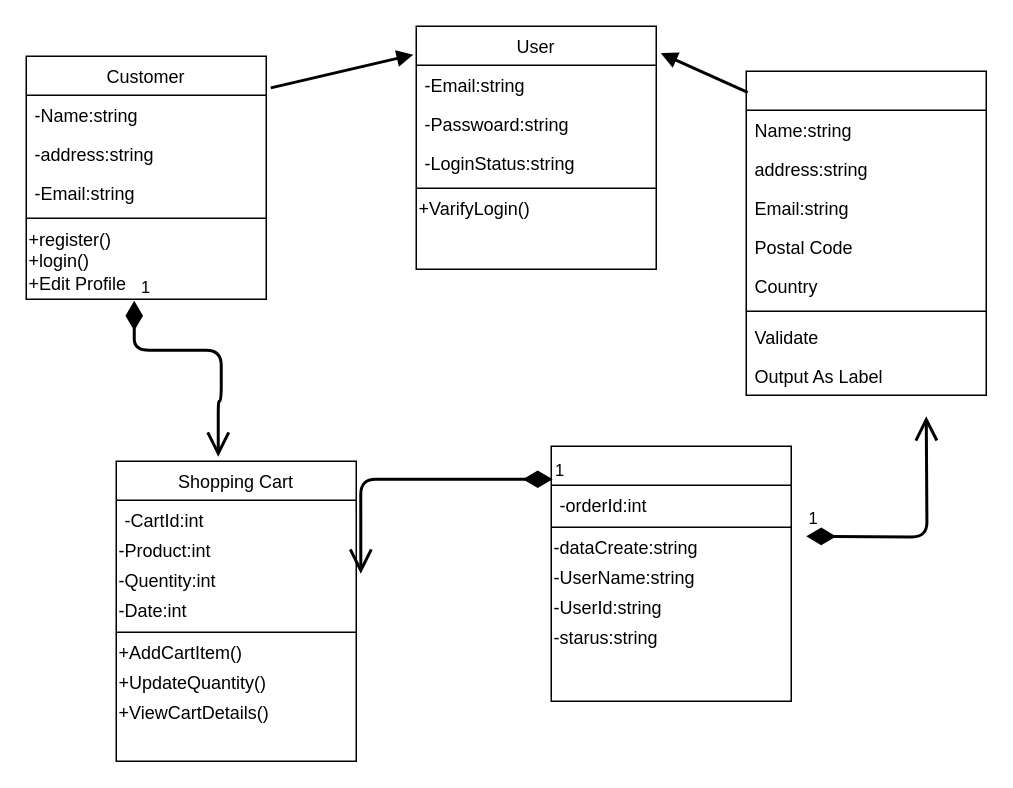
This 1013x788 diagram has some shape labels left out. Each missing label, with the box of its shape:
Admin: (745, 70, 986, 395)
orders: (550, 445, 791, 701)
